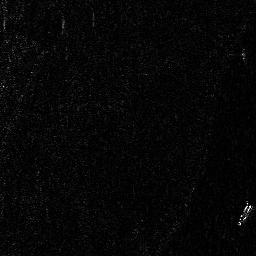ship: (237, 203, 252, 226)
